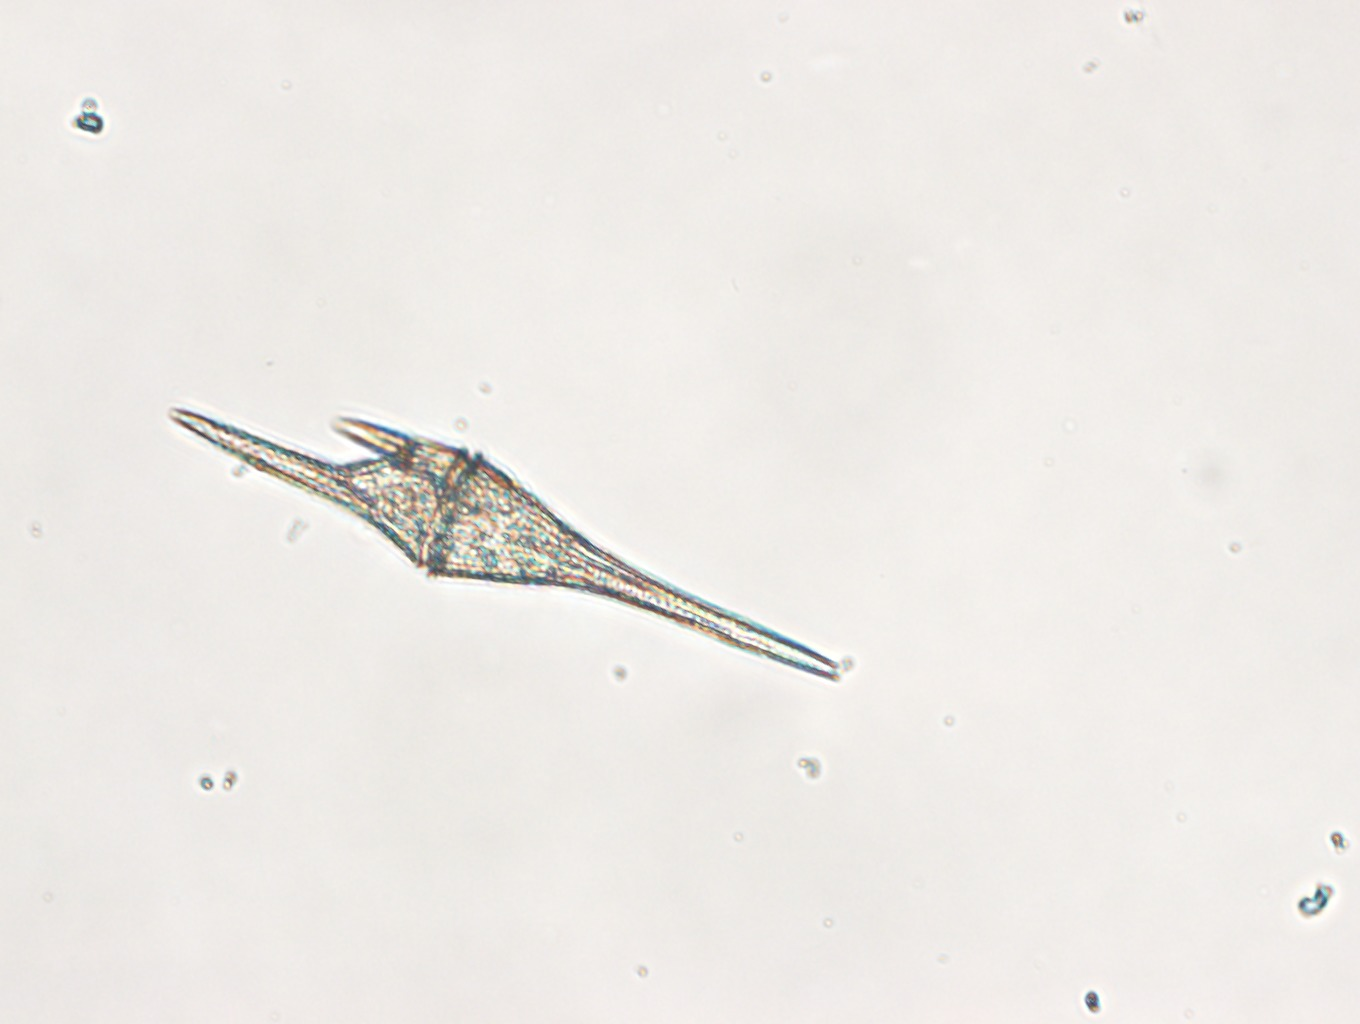ceratium furca: (163, 402, 844, 683)
